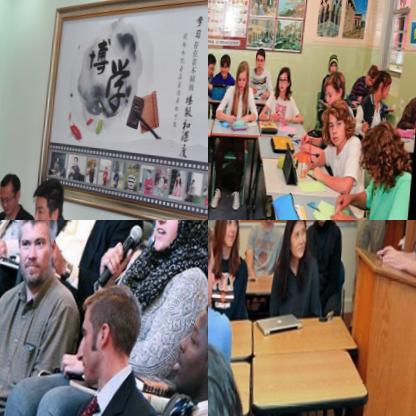head: (76, 282, 149, 387), (167, 294, 208, 392), (360, 112, 408, 192), (6, 220, 58, 290), (153, 220, 208, 262), (27, 174, 68, 220), (323, 96, 354, 146), (0, 170, 27, 219), (282, 220, 312, 258), (212, 220, 244, 254), (322, 68, 348, 109), (208, 224, 219, 319), (372, 66, 395, 100), (234, 57, 253, 93), (276, 63, 295, 94), (217, 52, 233, 78), (253, 46, 267, 74), (325, 50, 339, 76), (365, 62, 379, 87), (208, 51, 216, 77)
